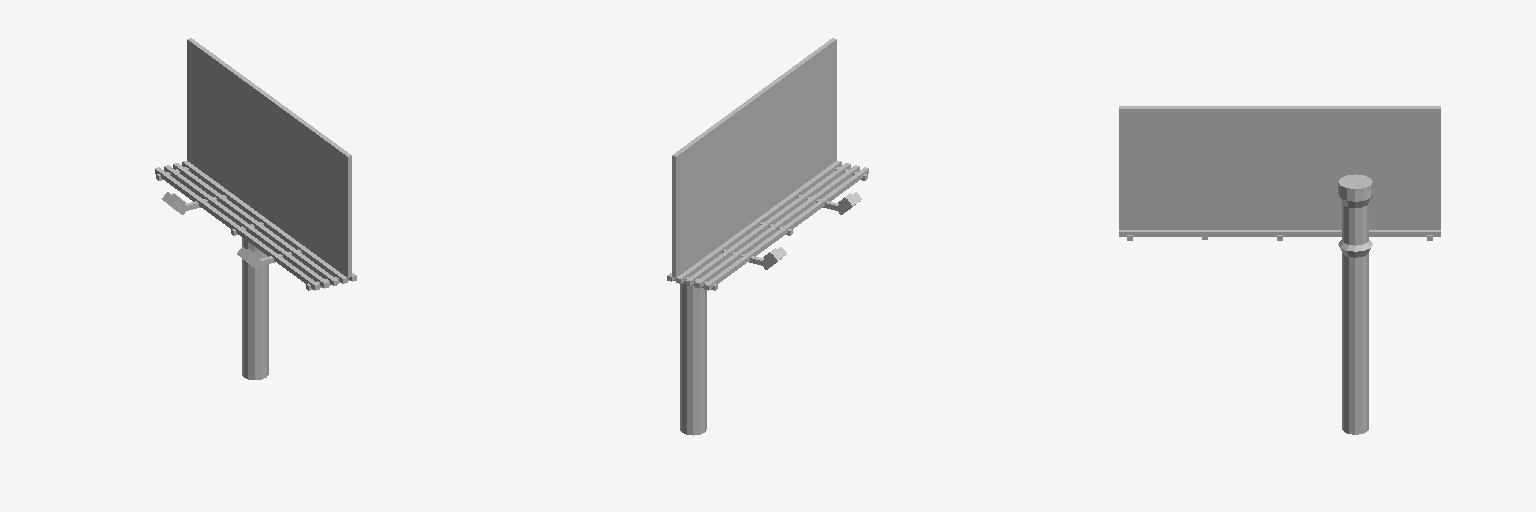
The model's file is Billboard 2.obj.
3 renders of one model, left to right at view 1: azimuth 30°, elevation 25°; view 2: azimuth 150°, elevation 25°; view 3: azimuth 270°, elevation 25°, orthographic.
Visible parts, largest first — view 1: Billboard; view 2: Billboard; view 3: Billboard.
Part boxes in pixels (x1,y1,x2,y2): Billboard: (155, 38, 356, 379); Billboard: (667, 38, 868, 435); Billboard: (1119, 106, 1440, 434).
Bounding box in the file's own units: 225 × 640 × 600.